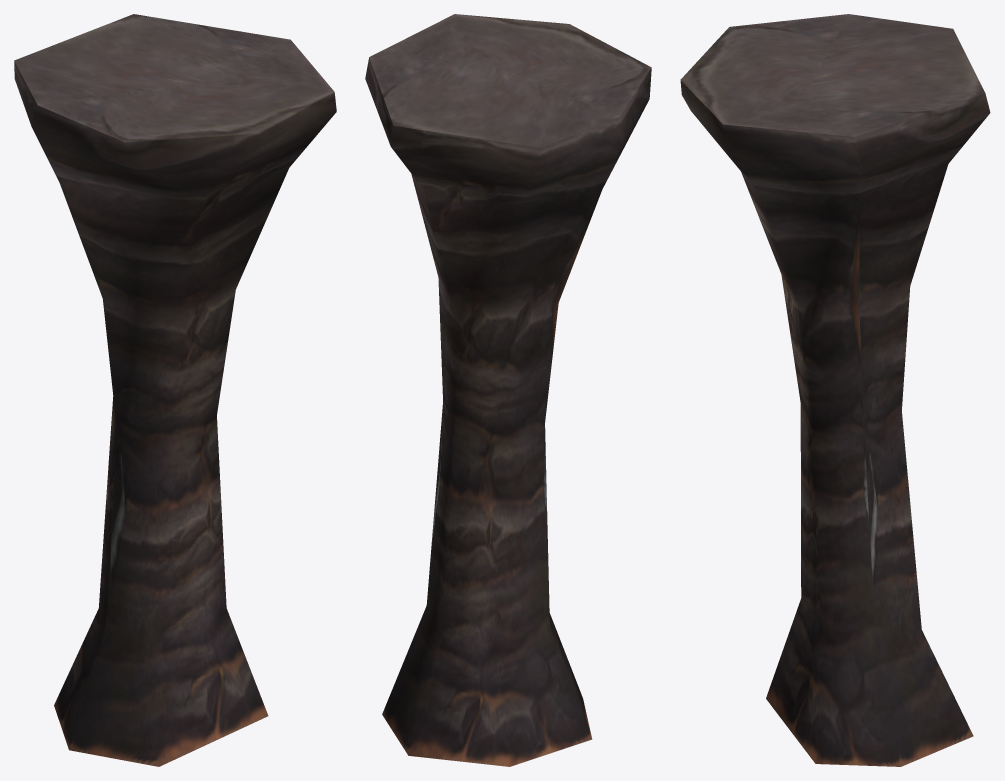
The model's file is common_yewai_shamoshanshi05.FBX.
The picture shows the model from 3 angles, left to right: view 1: azimuth 30°, elevation 25°; view 2: azimuth 150°, elevation 25°; view 3: azimuth 270°, elevation 25°; orthographic projection. The views are drawn at different scales.
Visible parts, largest first — view 1: common_yewai_shamoshanshi05; view 2: common_yewai_shamoshanshi05; view 3: common_yewai_shamoshanshi05.
Part boxes in pixels (x1,y1,x2,y2): common_yewai_shamoshanshi05: (14, 14, 336, 766); common_yewai_shamoshanshi05: (365, 14, 651, 766); common_yewai_shamoshanshi05: (680, 14, 990, 766).
Size of the model in its own units: 4.57 by 4.7 by 10.88.
